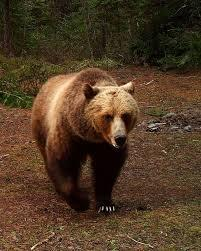bear: (31, 69, 139, 214)
